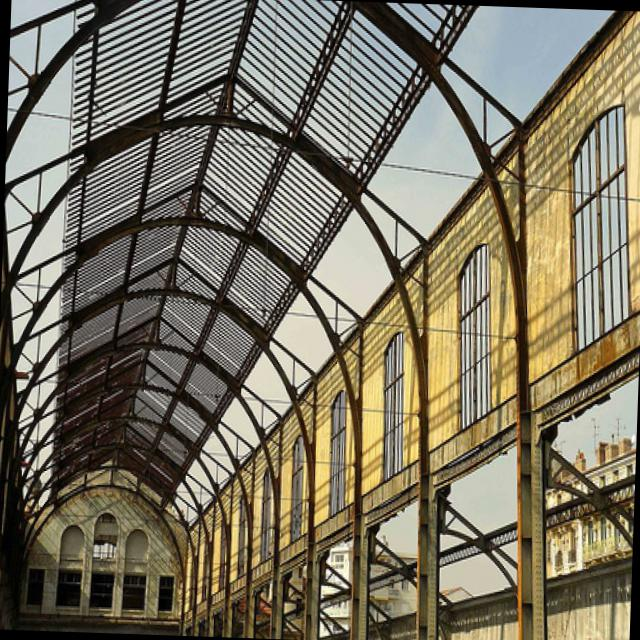2001: (570, 103, 630, 348), (460, 241, 491, 430), (384, 330, 403, 479), (330, 388, 347, 515), (291, 433, 307, 541), (123, 558, 149, 610), (91, 558, 117, 609), (59, 557, 85, 606), (27, 566, 45, 603), (159, 573, 175, 609)
glass door: (6, 0, 618, 537)
wall clock: (181, 10, 640, 640), (20, 464, 189, 634), (0, 221, 28, 626)
